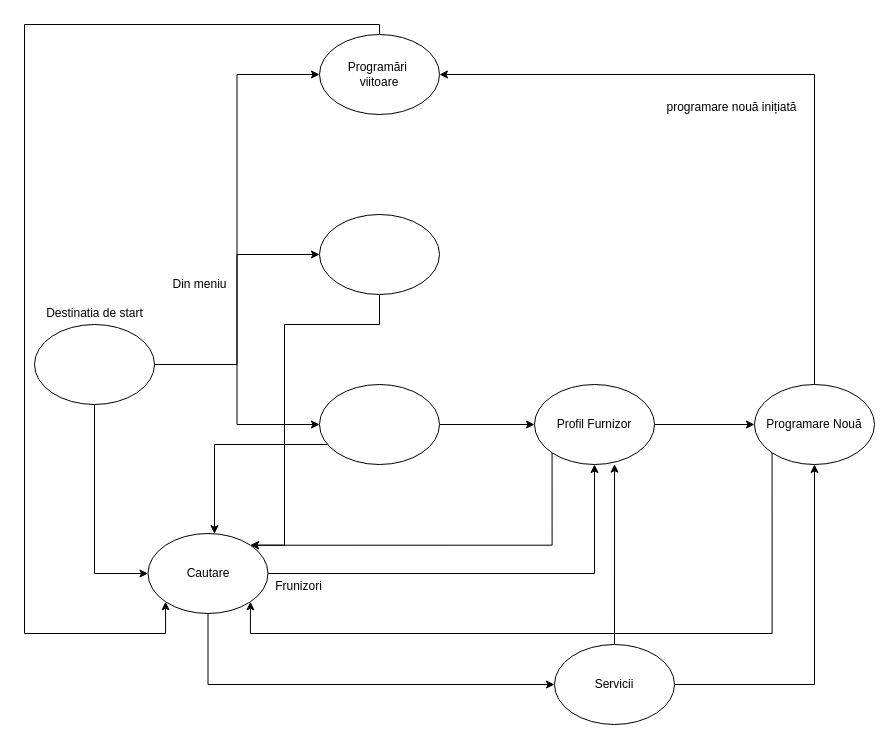
Some shapes in this 892 by 742 pixel diagram are drawn without their labels. Each missing label, with the centre of its shape:
"Acasă (Categorii furnizori)" belongs at point (94, 364).
"Furnizori pe Categorii" belongs at point (379, 424).
"Istroicul Programărilor" belongs at point (379, 254).
